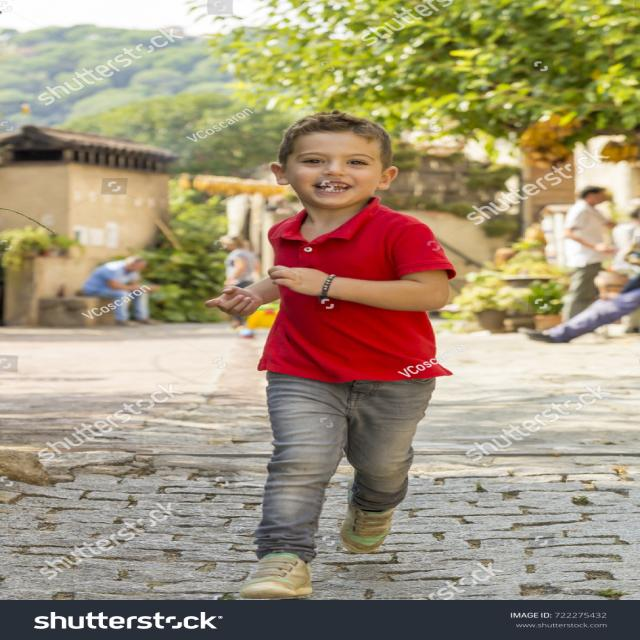Person: (202, 111, 457, 603)
